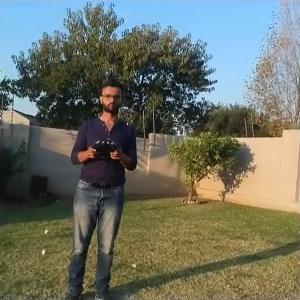follow: (56, 73, 139, 298)
